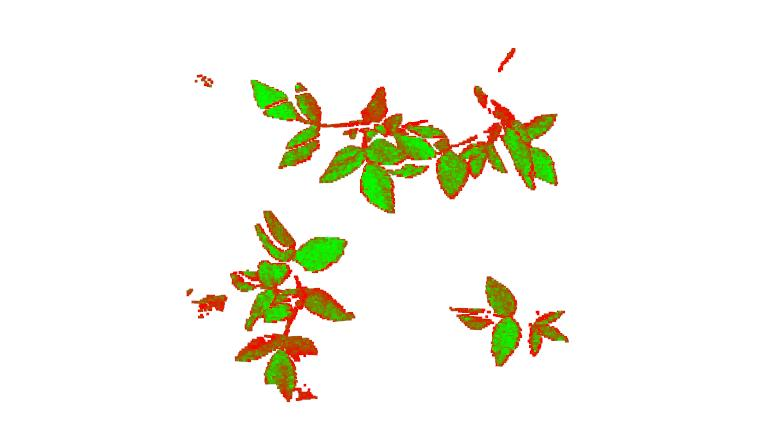mungbean: (243, 73, 433, 216), (229, 209, 352, 403), (426, 80, 567, 196), (443, 274, 575, 362)
